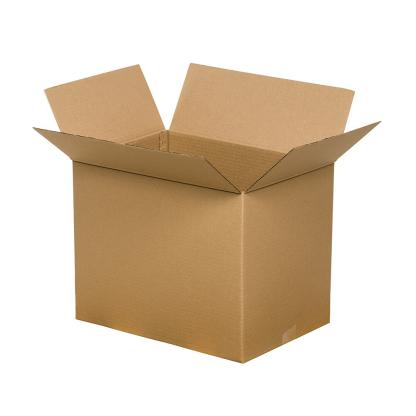box: (32, 60, 382, 366)
